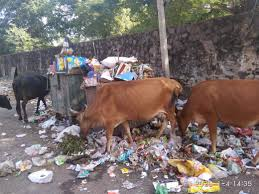garbage: (117, 143, 212, 194), (27, 125, 80, 181), (87, 55, 148, 79), (53, 48, 94, 67)
